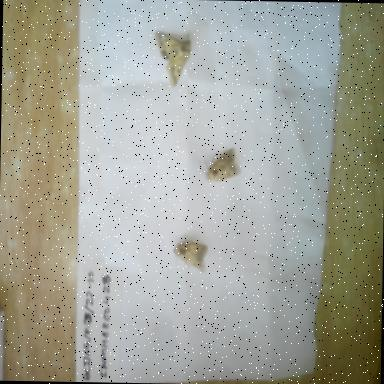abw: (150, 26, 198, 93), (198, 142, 246, 192), (168, 235, 213, 280)
